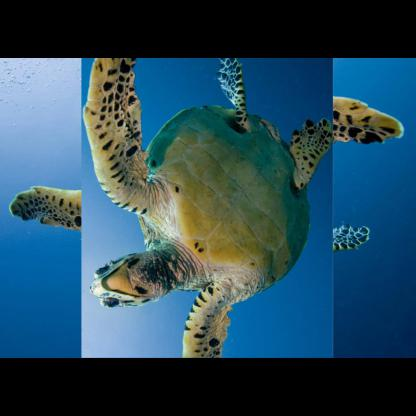turtle: (44, 57, 370, 356)
